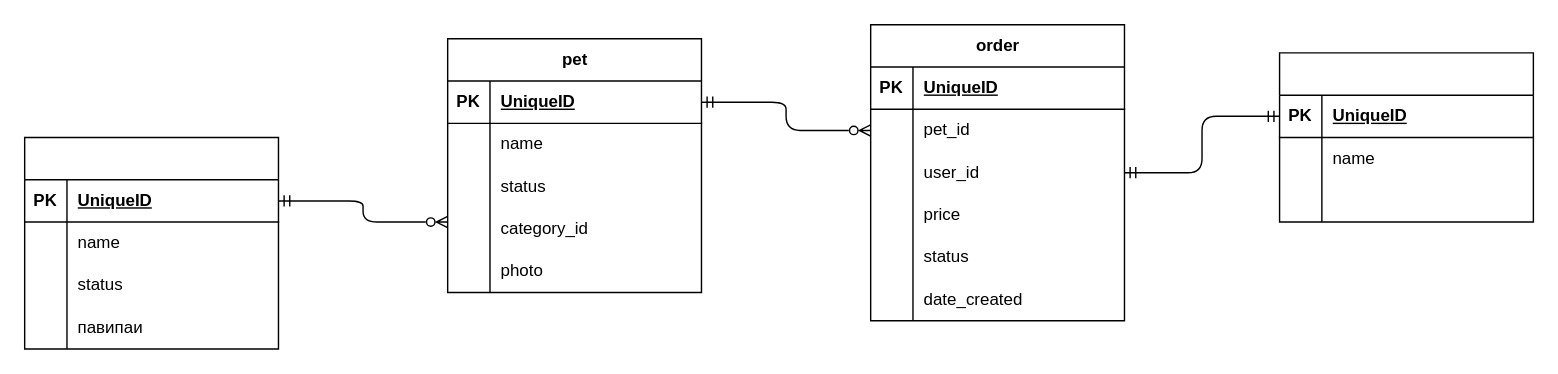
Image size: 1558x374. Some labels were removed from this diagram. The box of each missing label's shape, as (x1, y1, x2, y2) in pixels:
pet_category: (23, 136, 278, 349)
user: (1278, 51, 1533, 222)
